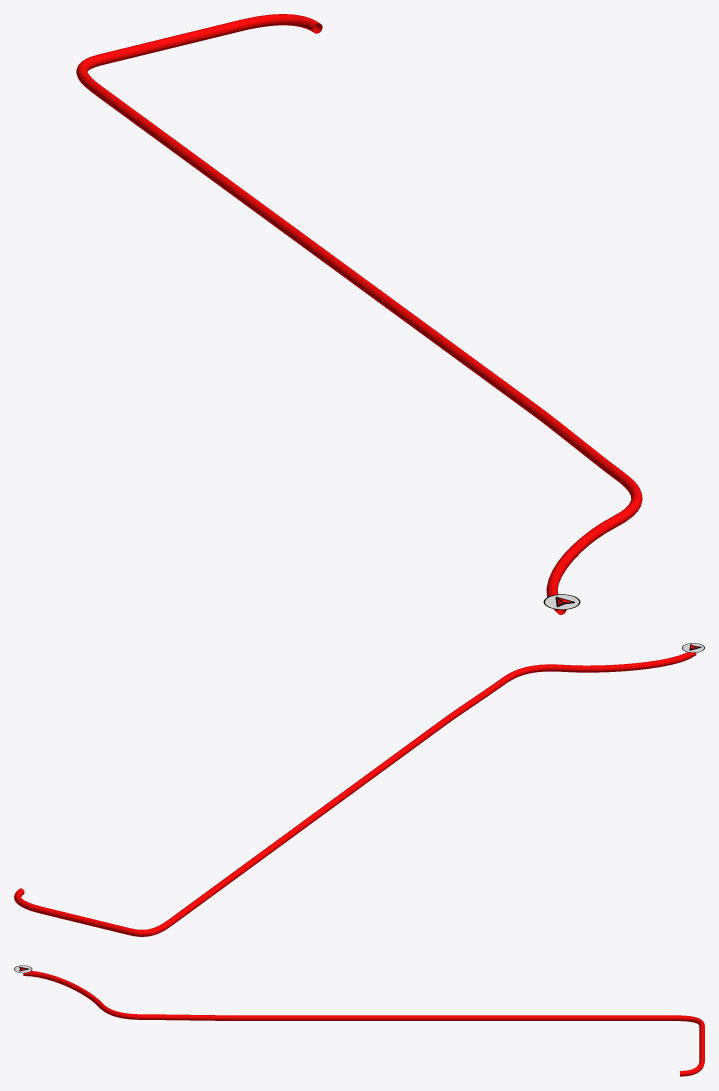
Rendered from route_22a119ca-c9a6-47b2-9774-a96bffa1e5ea_de_single.glb.
3 renders of one model, top to bottom at view 1: azimuth 30°, elevation 25°; view 2: azimuth 150°, elevation 25°; view 3: azimuth 270°, elevation 25°, orthographic. The views are drawn at different scales.
Visible parts, largest first — view 1: B6, Abteil 3; view 2: B6, Abteil 3; view 3: B6, Abteil 3.
Boxes of the visible parts, bbox=[...] form: B6, Abteil 3: bbox=[76, 14, 642, 614]; B6, Abteil 3: bbox=[14, 652, 696, 936]; B6, Abteil 3: bbox=[23, 971, 704, 1076].
Size of the model in its own units: 3.52 by 0.1062 by 9.72.
